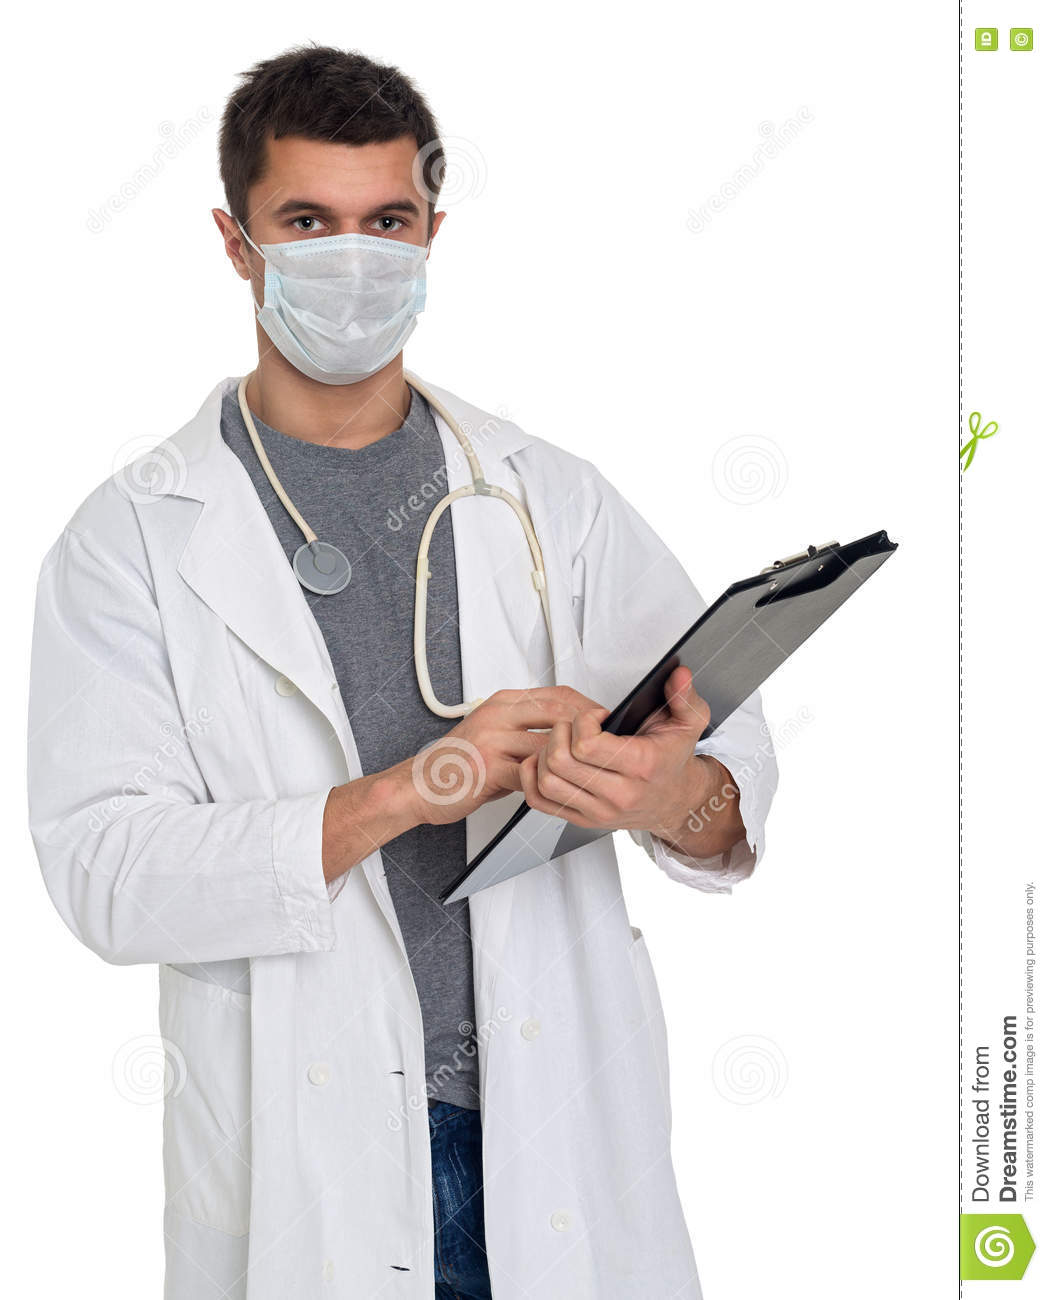mask: (263, 228, 425, 388)
